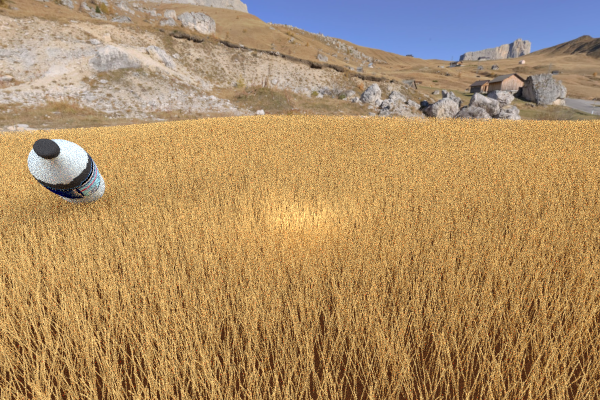Plastic Bottle: (330, 180, 600, 336), (27, 138, 105, 204), (184, 121, 206, 140)
